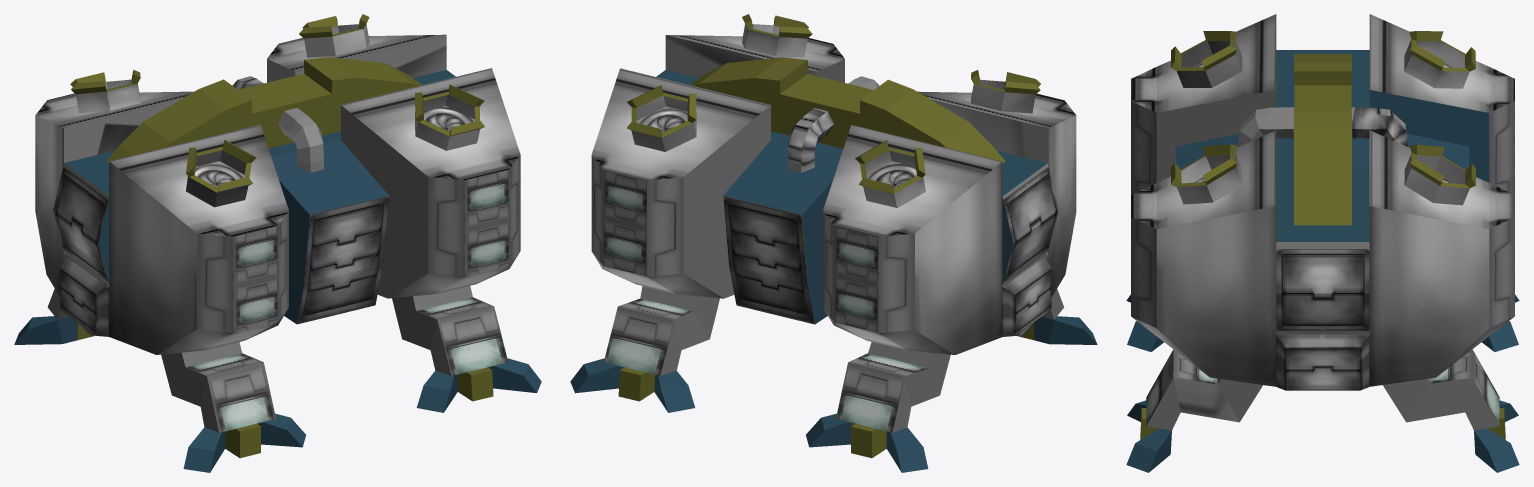
File: CHILD Facility 3.fbx
3 views of the same model, side by side, from view 1: azimuth 30°, elevation 25°; view 2: azimuth 150°, elevation 25°; view 3: azimuth 270°, elevation 25° (orthographic). The views are drawn at different scales.
Parts seen in each view (by area): view 1: Cube; view 2: Cube; view 3: Cube.
Boxes of the visible parts, x1=… form: Cube: x1=14, y1=14, x2=541, y2=472; Cube: x1=570, y1=14, x2=1097, y2=472; Cube: x1=1126, y1=14, x2=1519, y2=472.
Size of the model in its own units: 545 by 359 by 438.
